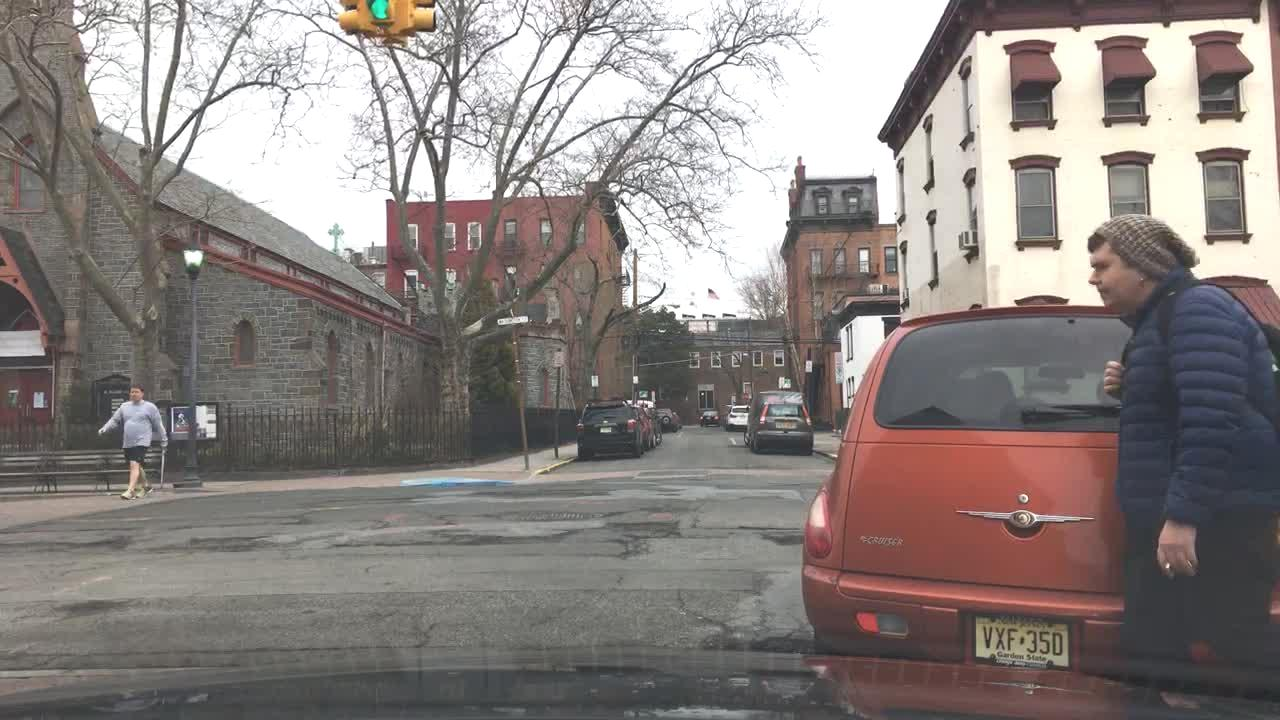Chrysler: (957, 500, 1097, 535)
